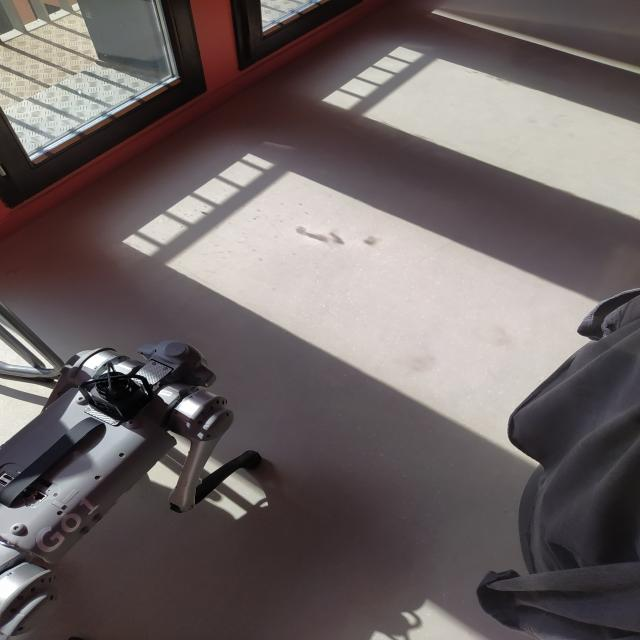unitree-go1-robot: (3, 340, 283, 640)
